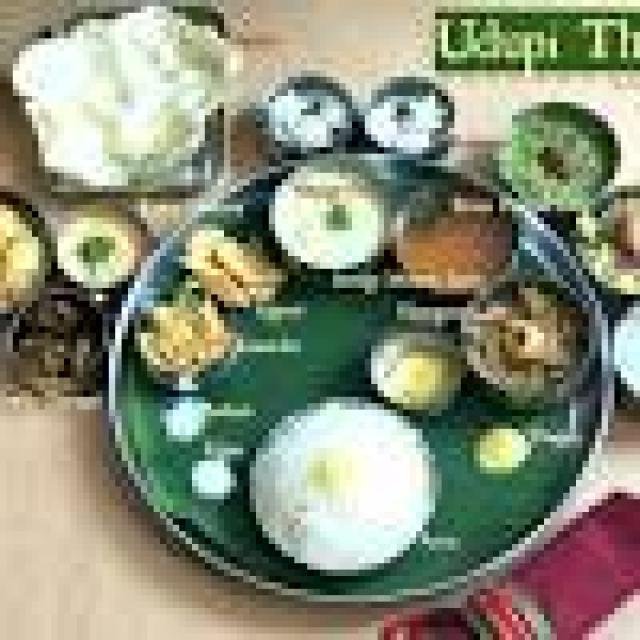papad: (21, 21, 226, 190)
raita: (261, 79, 356, 156), (604, 284, 640, 423)
rice: (240, 388, 444, 573)
sambar-rasam: (383, 190, 523, 301)
sweet: (454, 270, 598, 405), (267, 154, 396, 278)
veg-fry: (455, 272, 593, 408)
